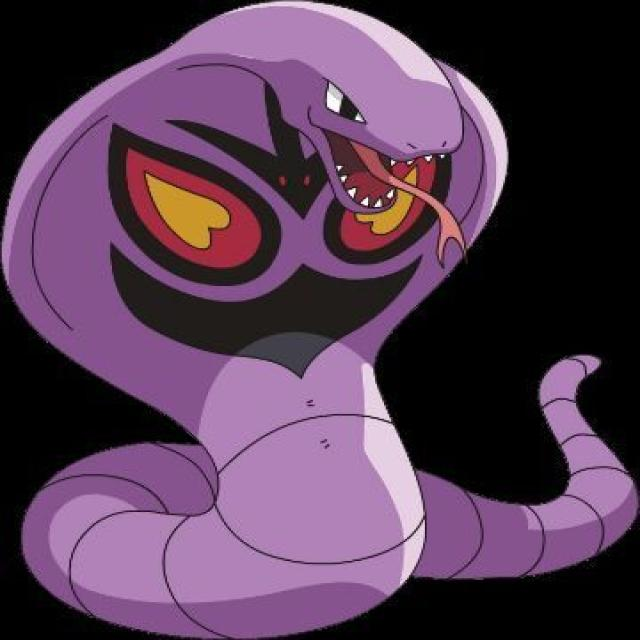Arbok: (16, 10, 508, 532)
